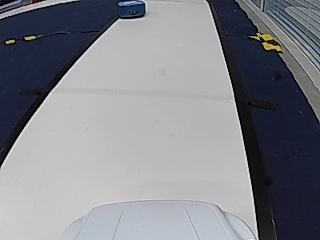prop: (118, 1, 145, 19)
